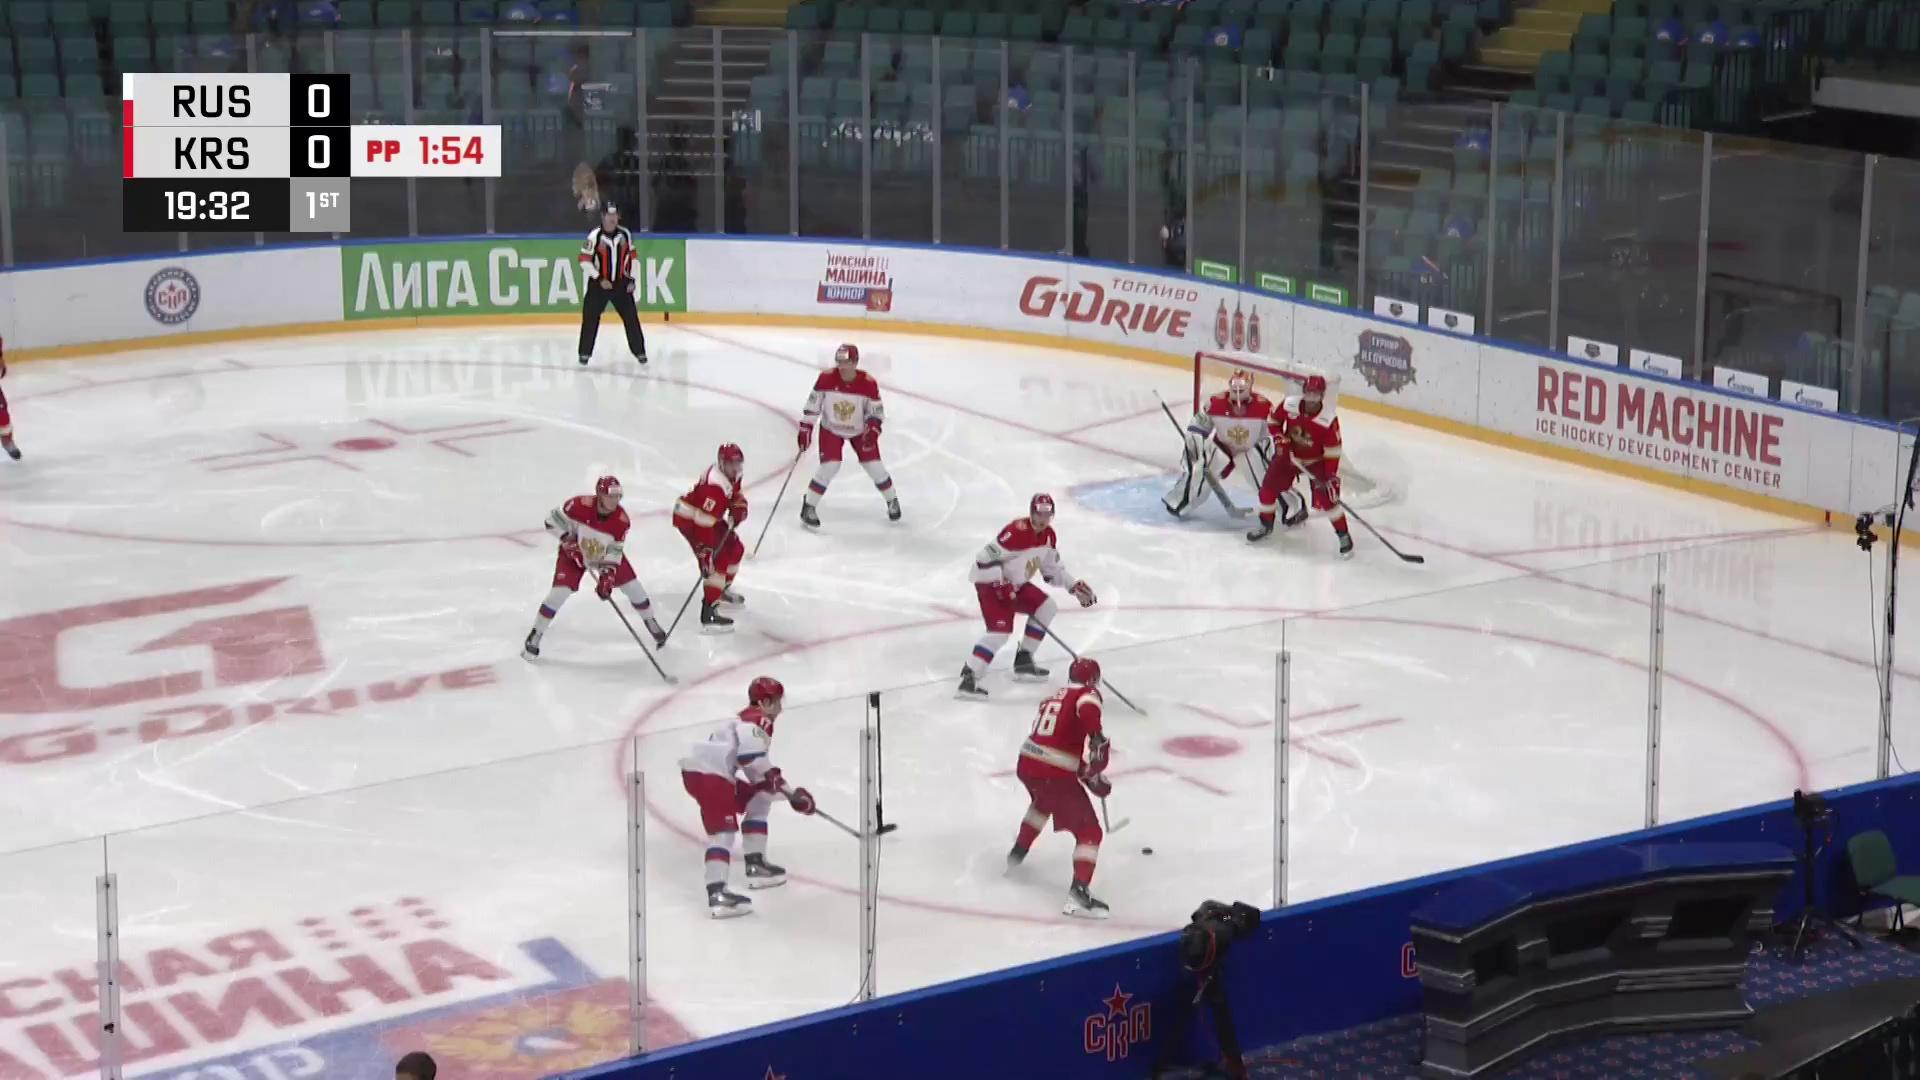ball: (1139, 845, 1156, 857)
